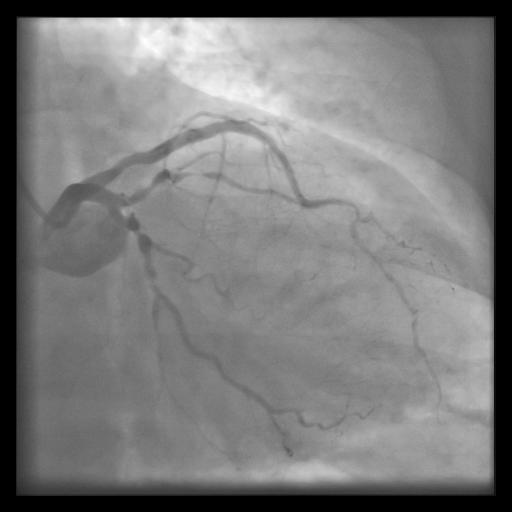Stenosis: (129, 216, 149, 248)
